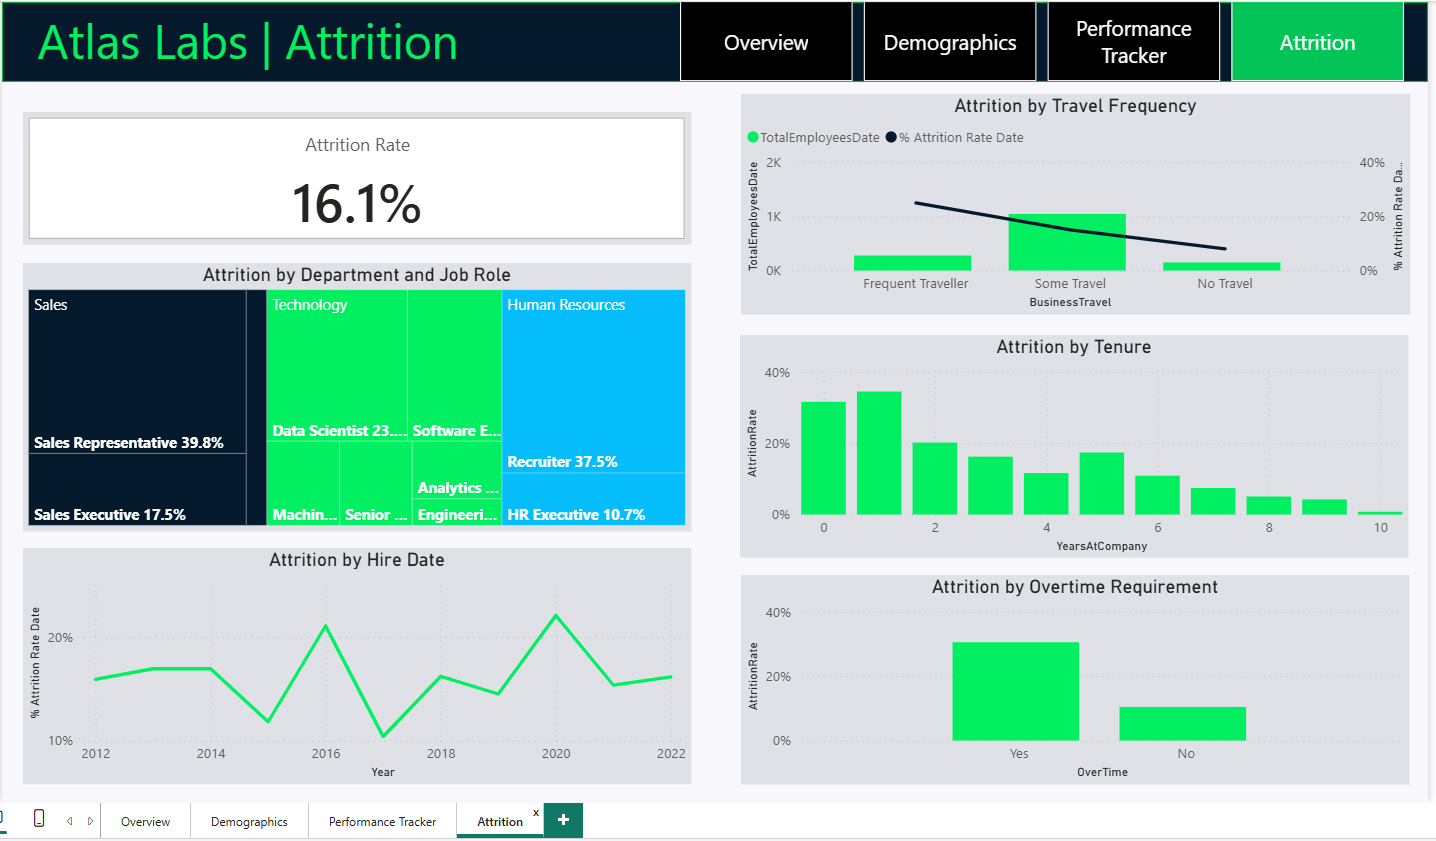

The dashboard page shown, as its layout file describes it:
{"tool":"powerbi","page":{"name":"Attrition","canvas":[1280,720],"ordinal":3},"visuals":[{"type":"cardVisual","fields":{"Data":["_Measures.AttritionRate"]},"box":[18.9,99.7,599.7,119.4],"z":0},{"type":"treemap","title":"Attrition by Department and Job Role","fields":{"Values":["_Measures.AttritionRate"],"Group":["DimEmployee.Department"],"Details":["DimEmployee.JobRole"]},"box":[18.9,235.2,599.7,240.6],"z":1000},{"type":"lineChart","title":"Attrition by Hire Date","fields":{"Y":["_Measures.% Attrition Rate Date"],"Category":["DimDate.Date.Variation.Date Hierarchy.Year"]},"box":[18.9,491.1,599.7,211.9],"z":2000},{"type":"lineStackedColumnComboChart","title":"Attrition by Travel Frequency","fields":{"Y":["_Measures.TotalEmployeesDate"],"Y2":["_Measures.% Attrition Rate Date"],"Category":["DimEmployee.BusinessTravel"]},"box":[663.4,83.5,600.6,197.5],"z":3000},{"type":"columnChart","title":"Attrition by Overtime Requirement","fields":{"Y":["_Measures.AttritionRate"],"Category":["DimEmployee.OverTime"]},"box":[663.4,515.3,599.7,187.6],"z":4000},{"type":"columnChart","title":"Attrition by Tenure","fields":{"Y":["_Measures.AttritionRate"],"Category":["DimEmployee.YearsAtCompany"]},"box":[662.5,299.9,599.7,200.2],"z":5000},{"type":"shape","box":[0,0.9,1280.2,71.8],"z":6000},{"type":"textbox","box":[26.9,0.9,405.8,71.8],"z":7000},{"type":"pageNavigator","box":[609.1,0,653.4,72.6],"z":7001}]}

Visuals, with their boxes on the page's 1280x720 design canvas (x1, y1, x2, y2). These are canvas units, not pixel positions in the 1436x841 screenshot, which may show the page scaled, cropped or inside an application window:
cardVisual - _Measures.AttritionRate: left=19, top=100, right=619, bottom=219
"Attrition by Department and Job Role" treemap: left=19, top=235, right=619, bottom=476
"Attrition by Hire Date" lineChart: left=19, top=491, right=619, bottom=703
"Attrition by Travel Frequency" lineStackedColumnComboChart: left=663, top=84, right=1264, bottom=281
"Attrition by Overtime Requirement" columnChart: left=663, top=515, right=1263, bottom=703
"Attrition by Tenure" columnChart: left=662, top=300, right=1262, bottom=500
shape: left=0, top=1, right=1280, bottom=73
textbox: left=27, top=1, right=433, bottom=73
pageNavigator: left=609, top=0, right=1262, bottom=73
